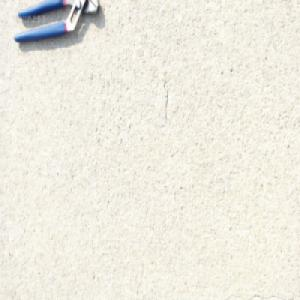Pliers: (12, 0, 100, 44)
